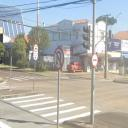NoVirarU: (54, 47, 64, 71)
